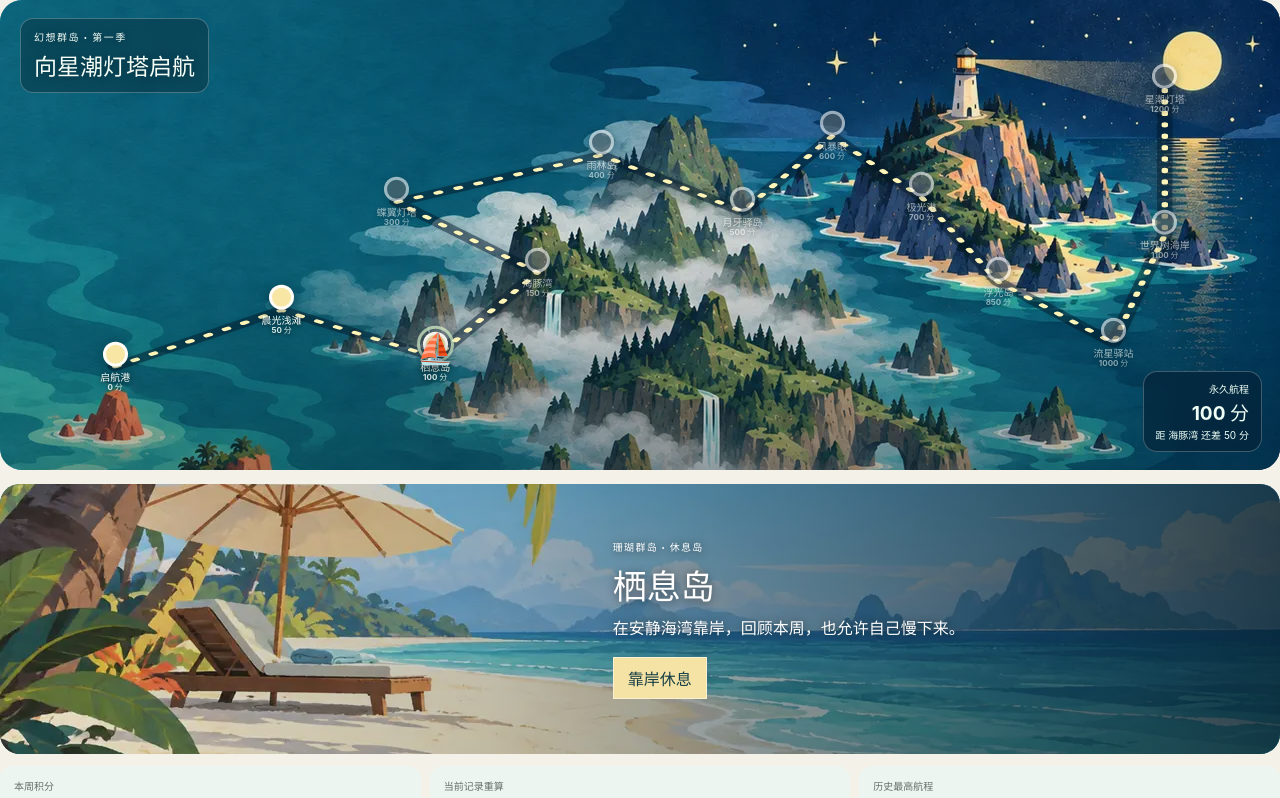
Test: journey map › 锁定地点只显示预览，已到达休息岛可以靠岸且不产生写操作
Click the button "风暴眼 600 分": click(832, 136) [816,111,848,162]
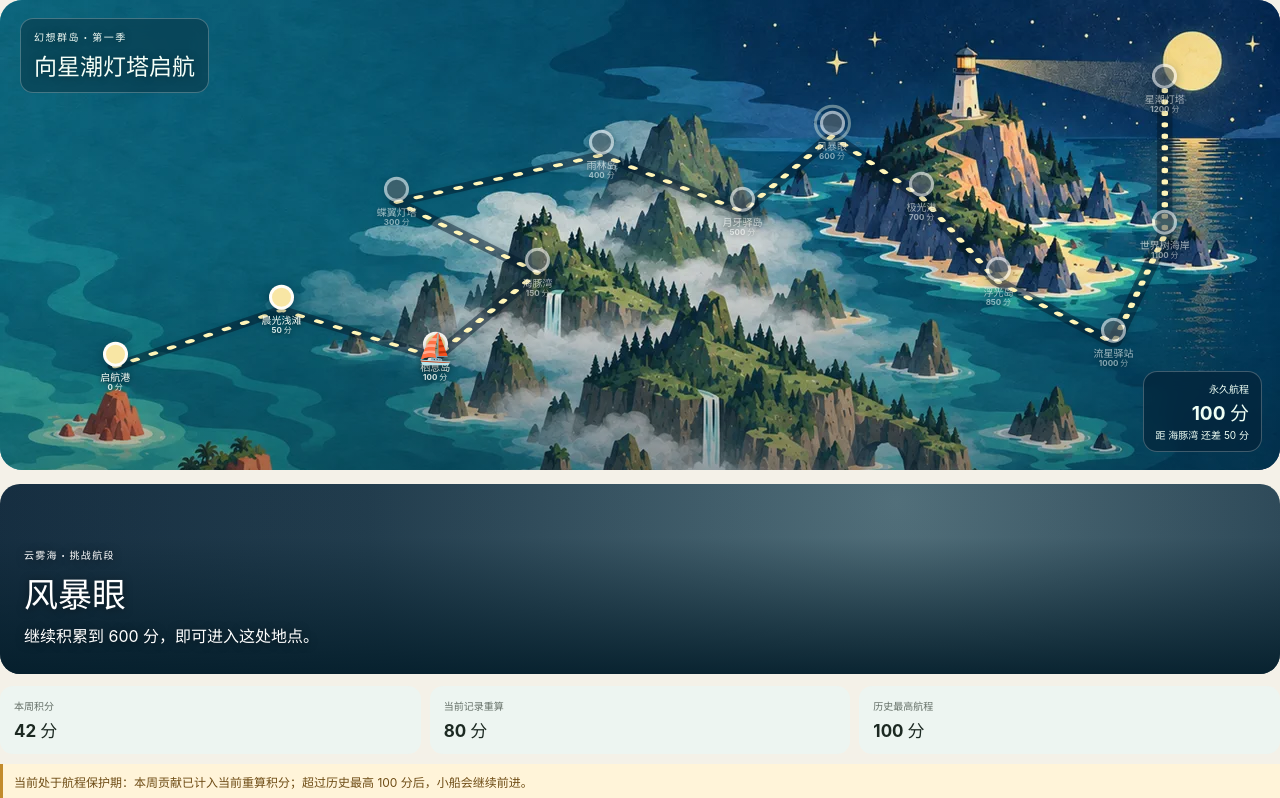
Expected: the element with class "locked" that starts with "云雾海" is shown, [0,484,1279,674]
Now the text "继续积累到 600 分" is shown, box [24,626,319,646]
Click the button "⌂ 栖息岛 100 分": click(435, 357) [419,332,451,382]
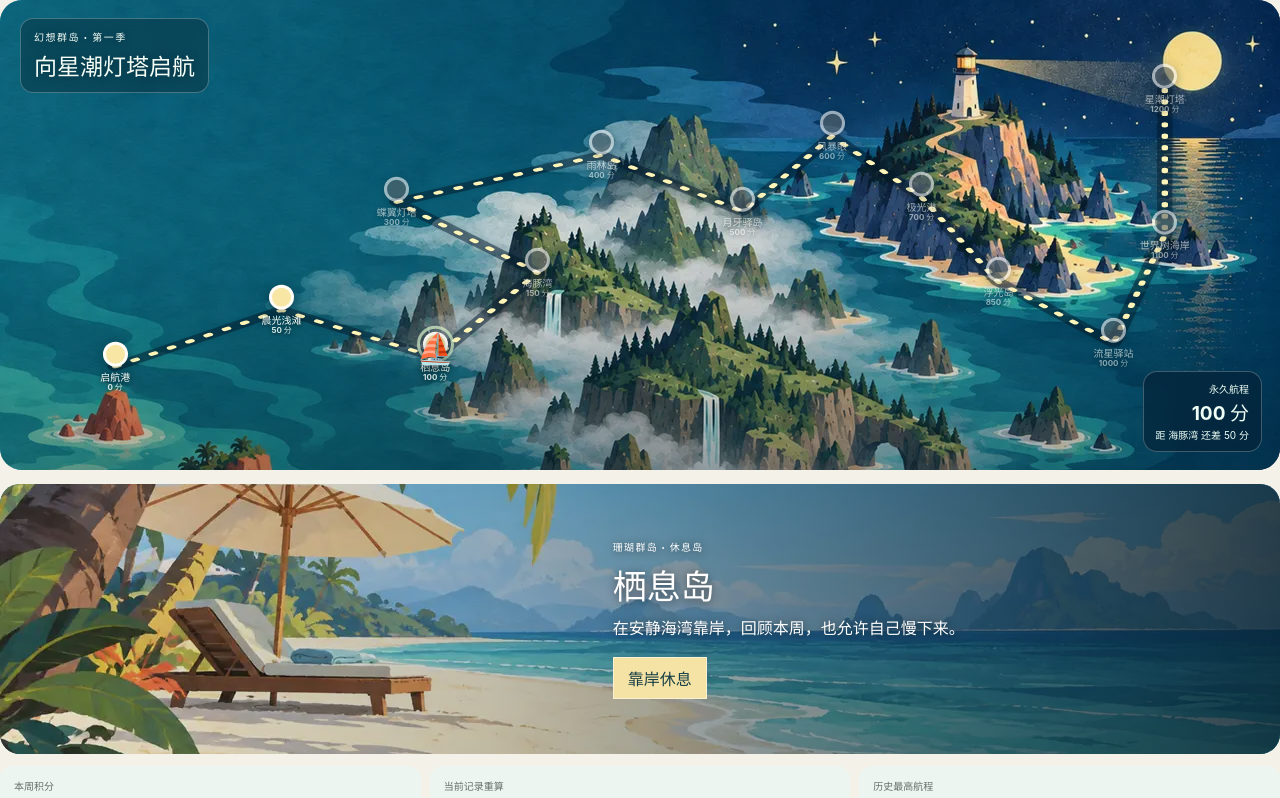
Click the button "靠岸休息": click(660, 678) [613,657,707,699]
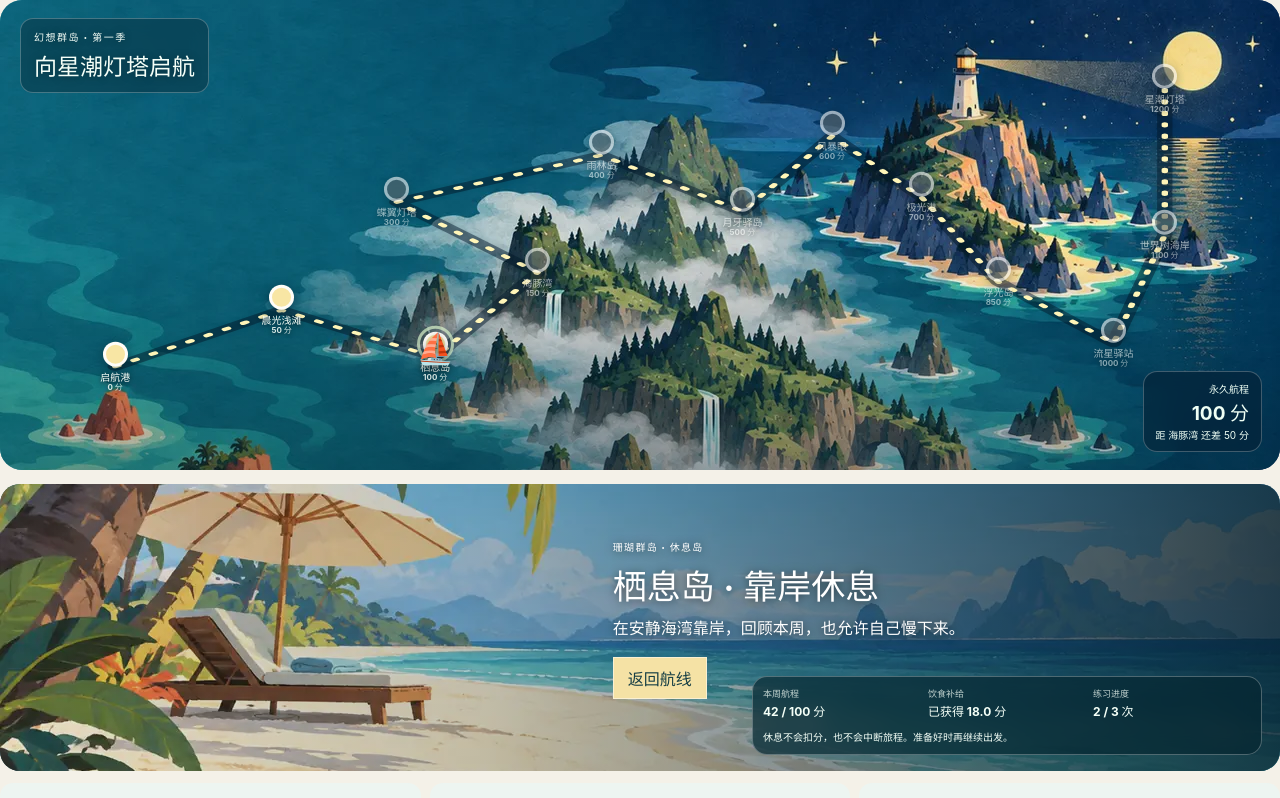
Now the text "栖息岛 · 靠岸休息" is shown, box [613,569,879,606]
Now the text "休息不会扣分" is shown, box [763,731,1013,743]
Now the text "2 / 3 次" is shown, box [1093,704,1134,719]
